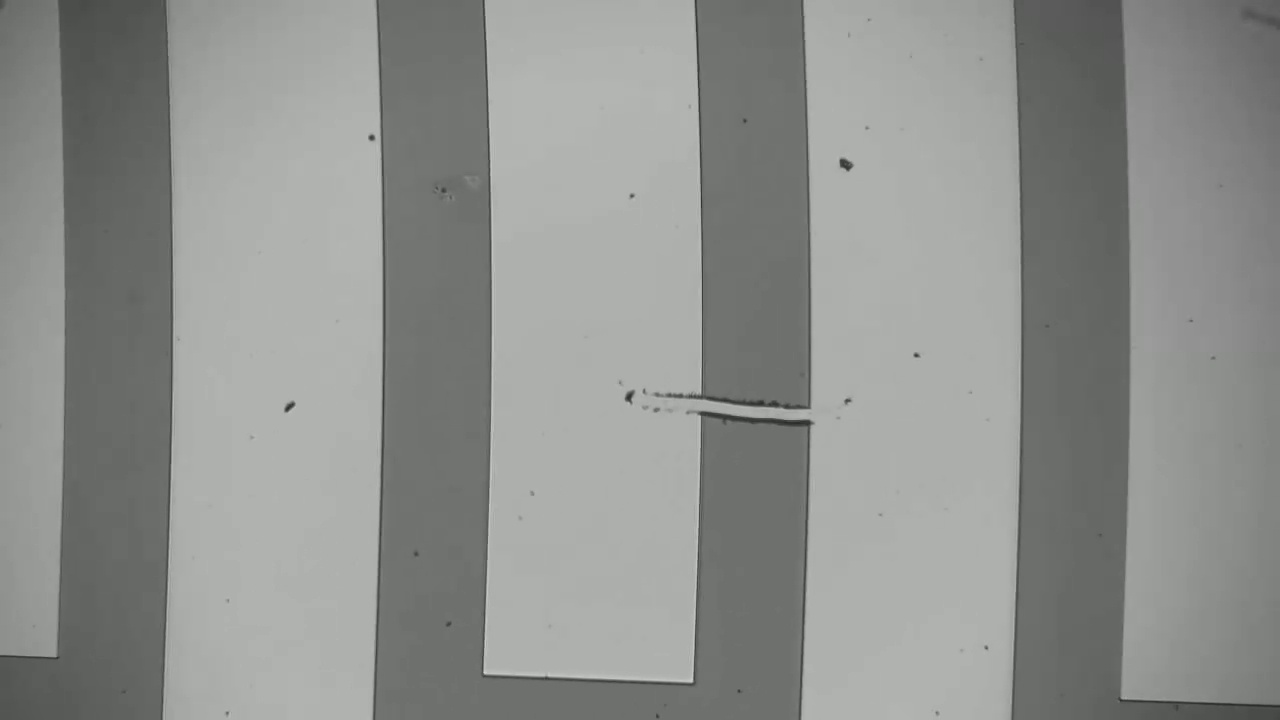Short_circuit: (662, 374, 835, 456)
